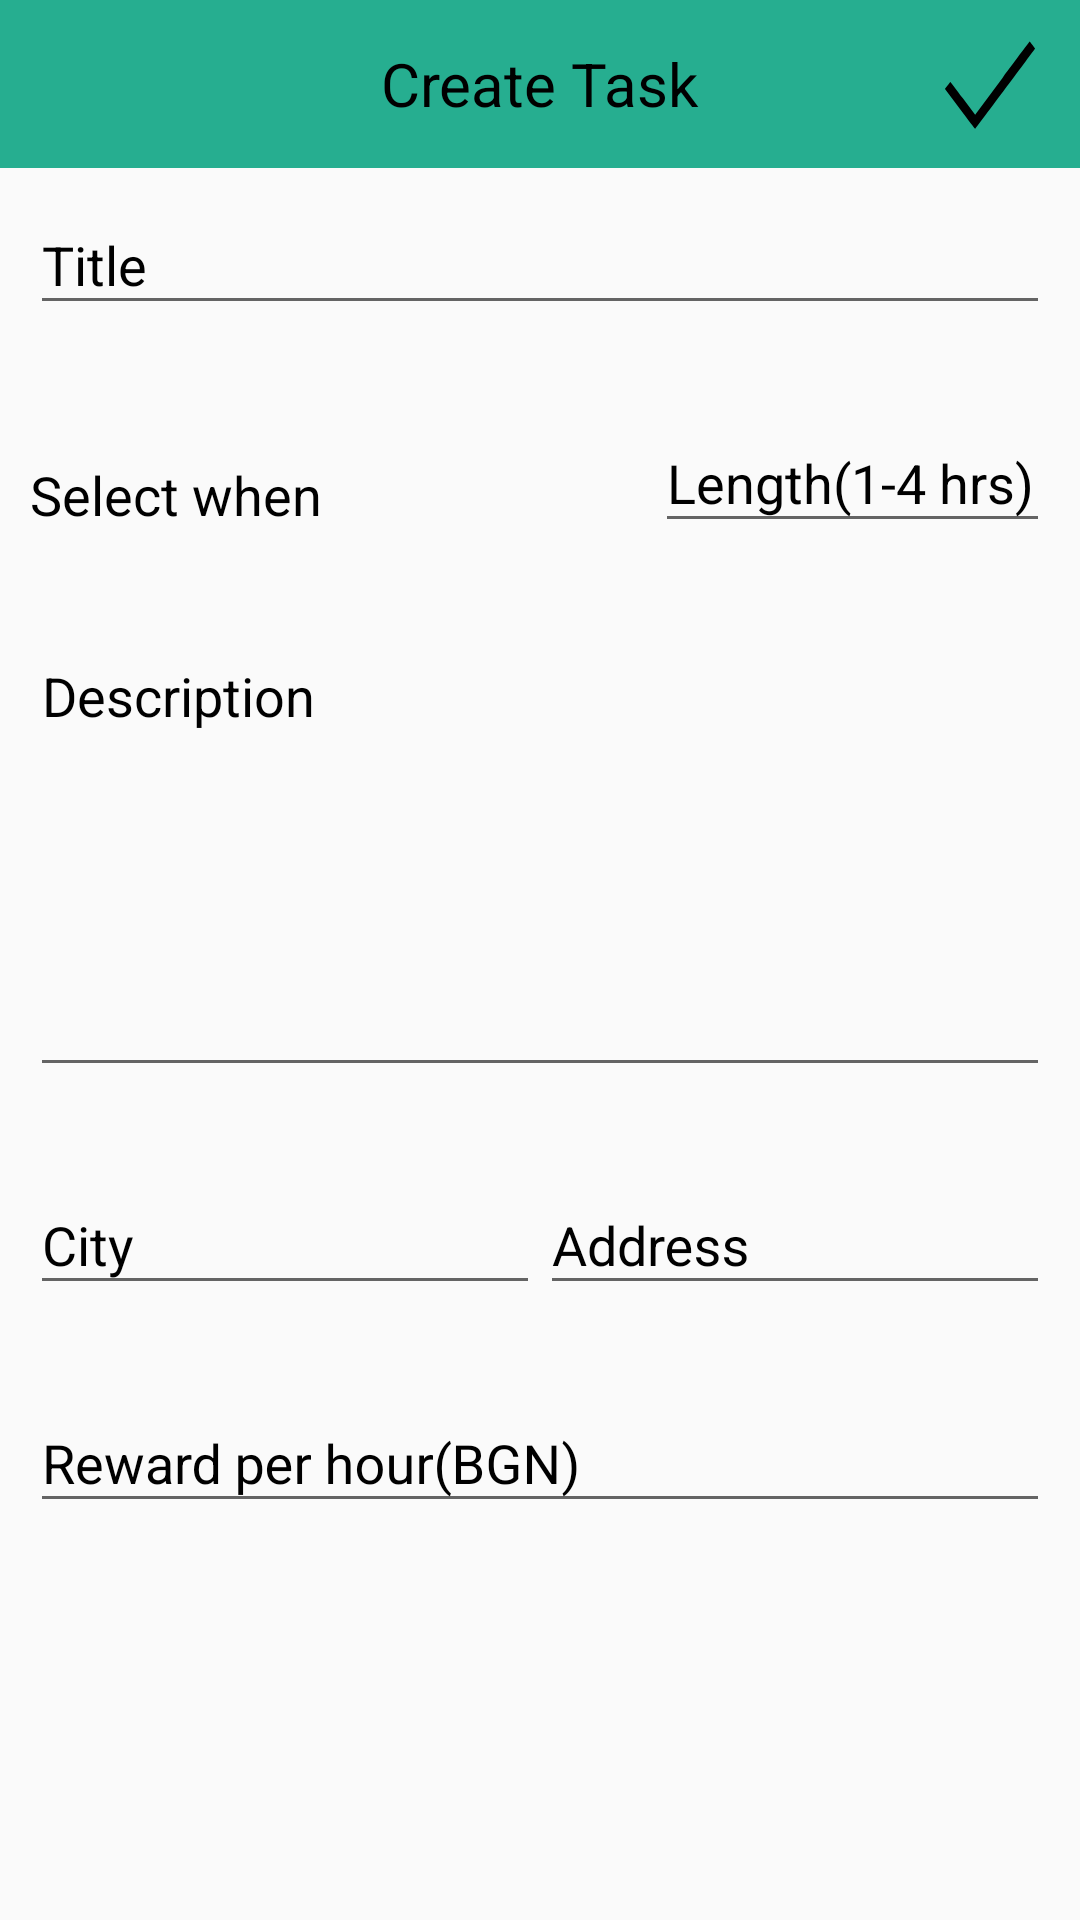

Named icons in this screenshot (1080 x 1920) and their bounding boxes, (x1, y1, x2, y2):
checkmark: (945, 41, 1035, 129)
